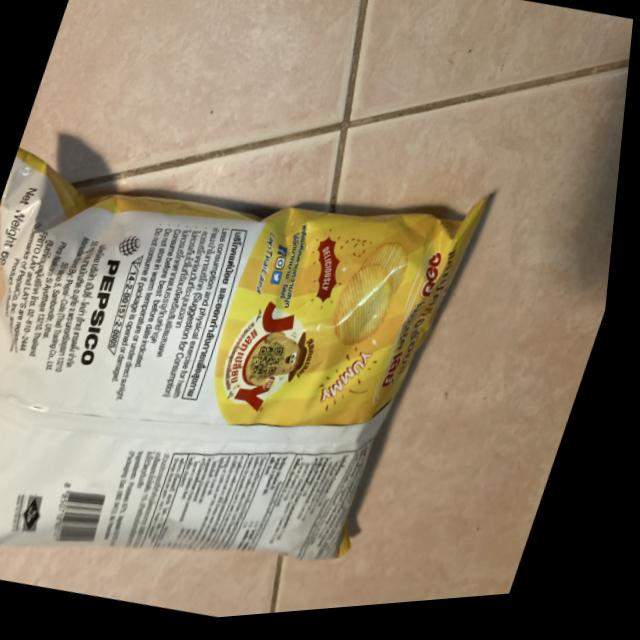LayYellow: (0, 69, 511, 640)
